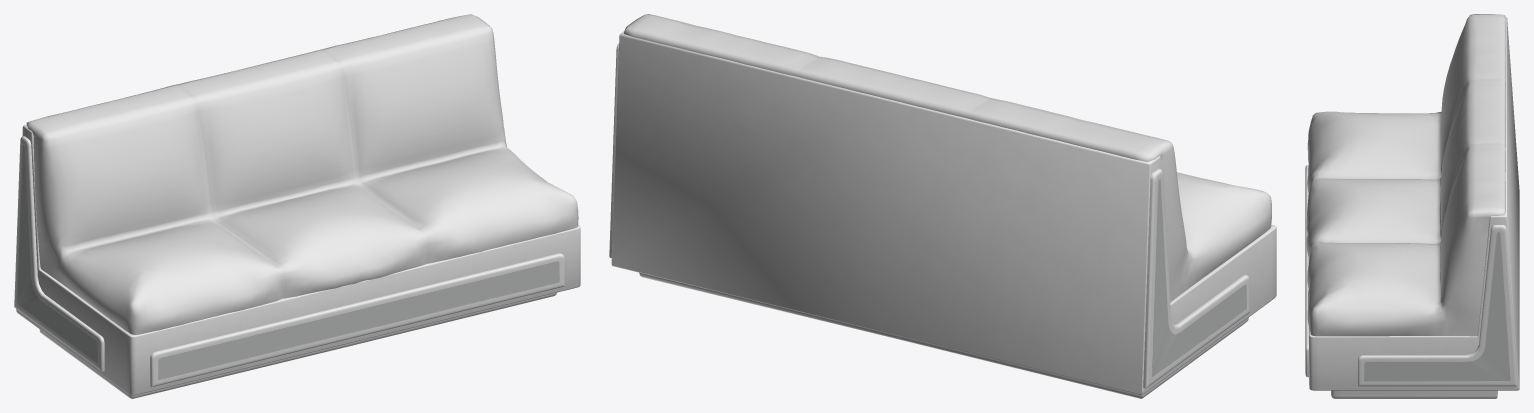
The model's file is Sofa05_1.FBX.
The picture shows the model from 3 angles, left to right: view 1: azimuth 30°, elevation 25°; view 2: azimuth 150°, elevation 25°; view 3: azimuth 270°, elevation 25°; orthographic projection. The views are drawn at different scales.
Parts seen in each view (by area): view 1: Sofa05_1; view 2: Sofa05_1; view 3: Sofa05_1.
Part boxes in pixels (x1,y1,x2,y2): Sofa05_1: (14, 14, 580, 398); Sofa05_1: (609, 14, 1276, 398); Sofa05_1: (1305, 14, 1519, 398).
Size of what is drawn, in the model's own units: 2.53 by 1.13 by 1.13.
